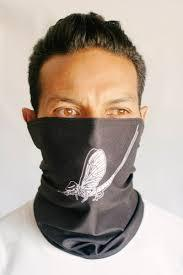OK: (39, 82, 143, 199)
